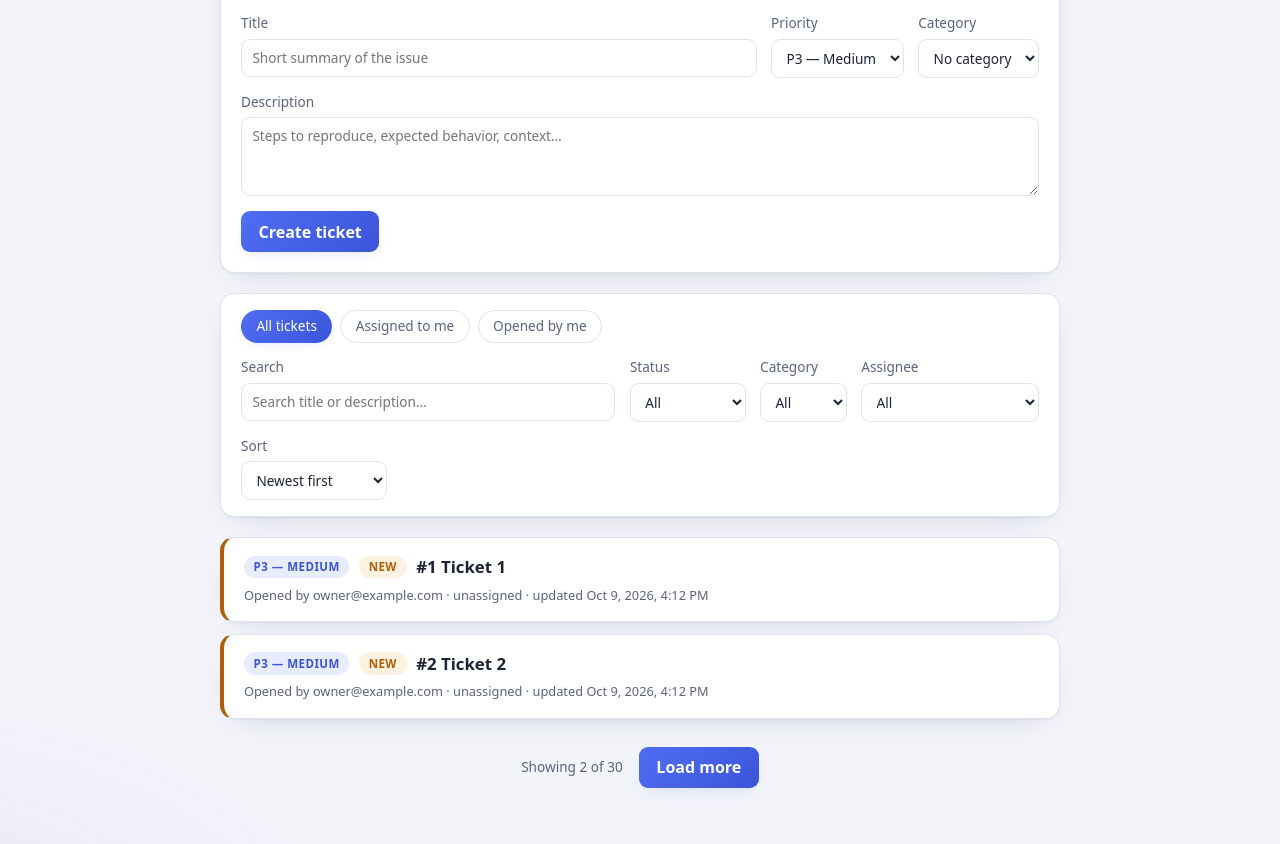
Test case: pagination › resets to the first page when a filter changes
(page scrolled)
Expected: the heading "#1 Ticket 1" is shown, [416,554,506,579]
Click the button "Load more". click: (699, 768)
box: [639,747,759,788]
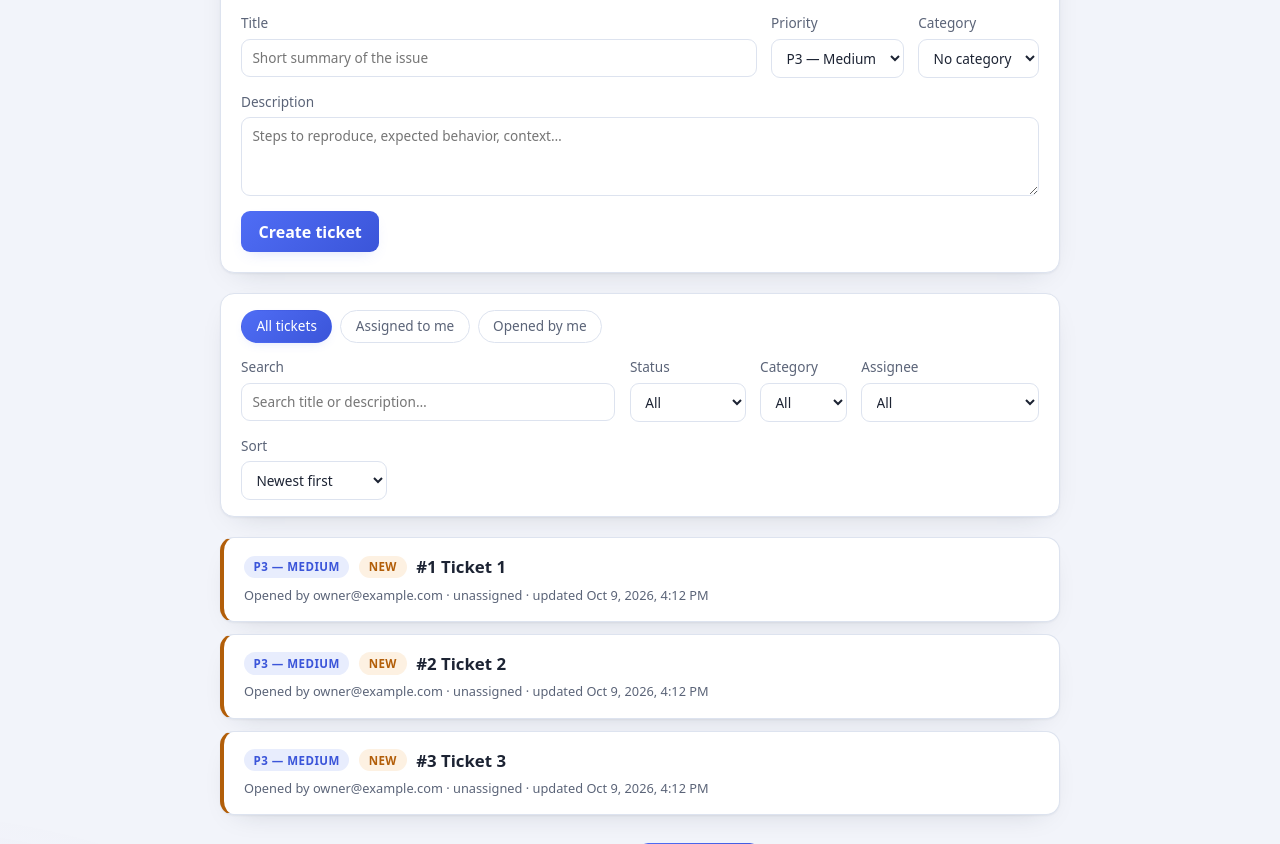
Result: the heading "#3 Ticket 3" is shown at [416,748,506,773]
Select "Open" in the dropdown labelled "Status". click: (688, 402)
box: [630,382,746,422]
(page scrolled)
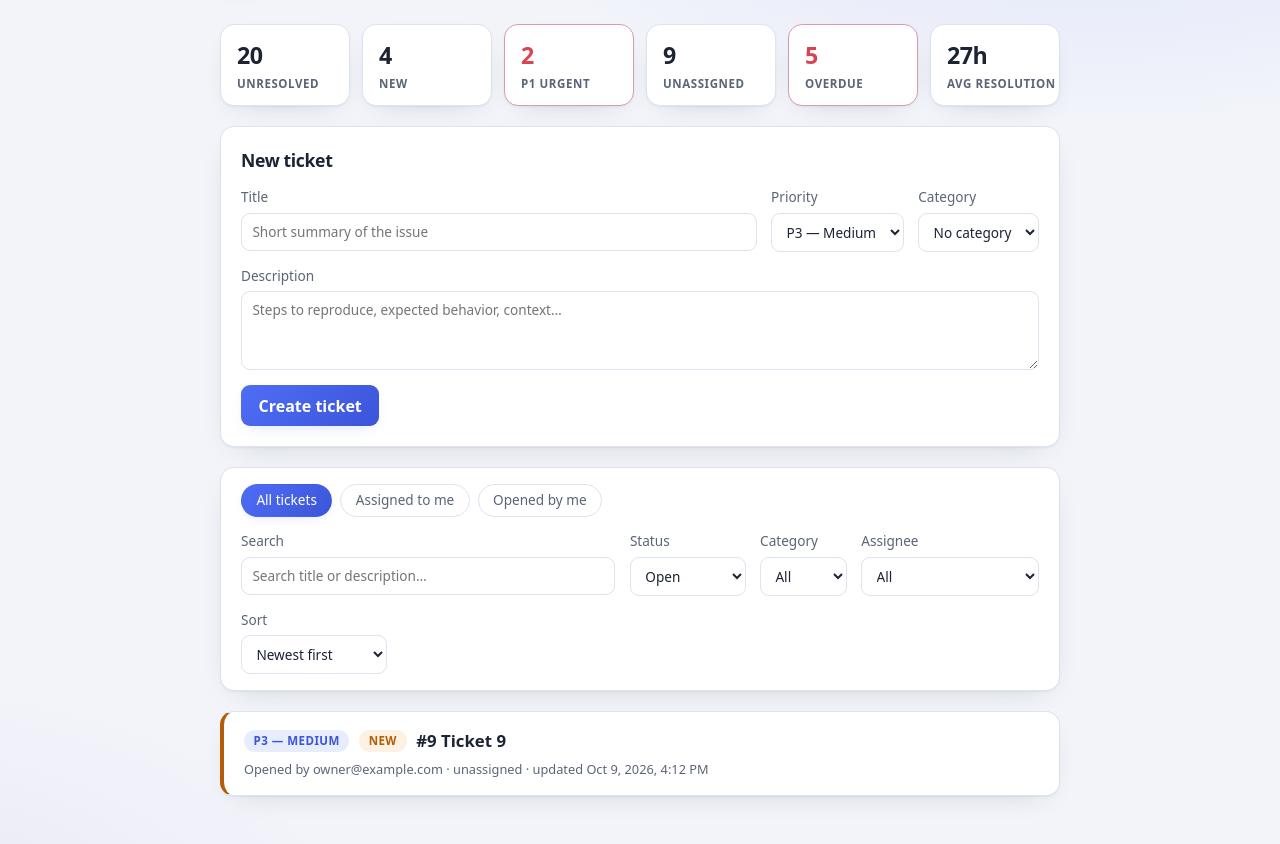
Result: the heading "#9 Ticket 9" is shown at [416,728,506,753]
Result: the button "#1 Ticket 1" is gone
Result: the number of list items is 1 at [220,711,1060,796]
